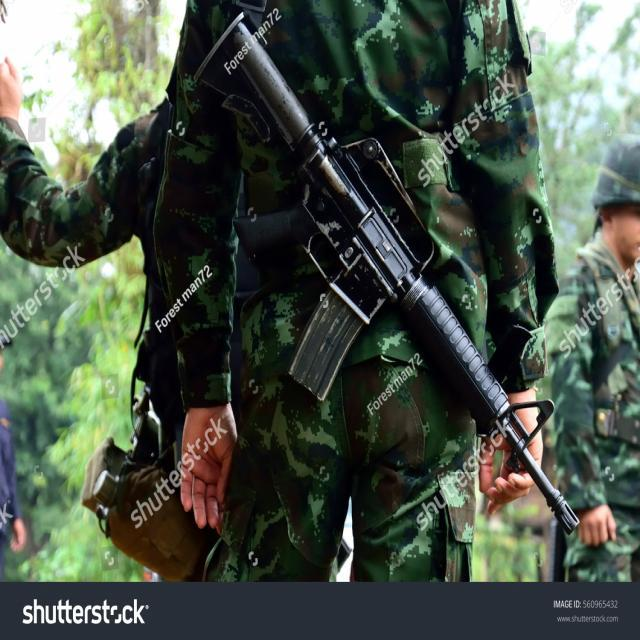m16: (168, 29, 566, 494)
